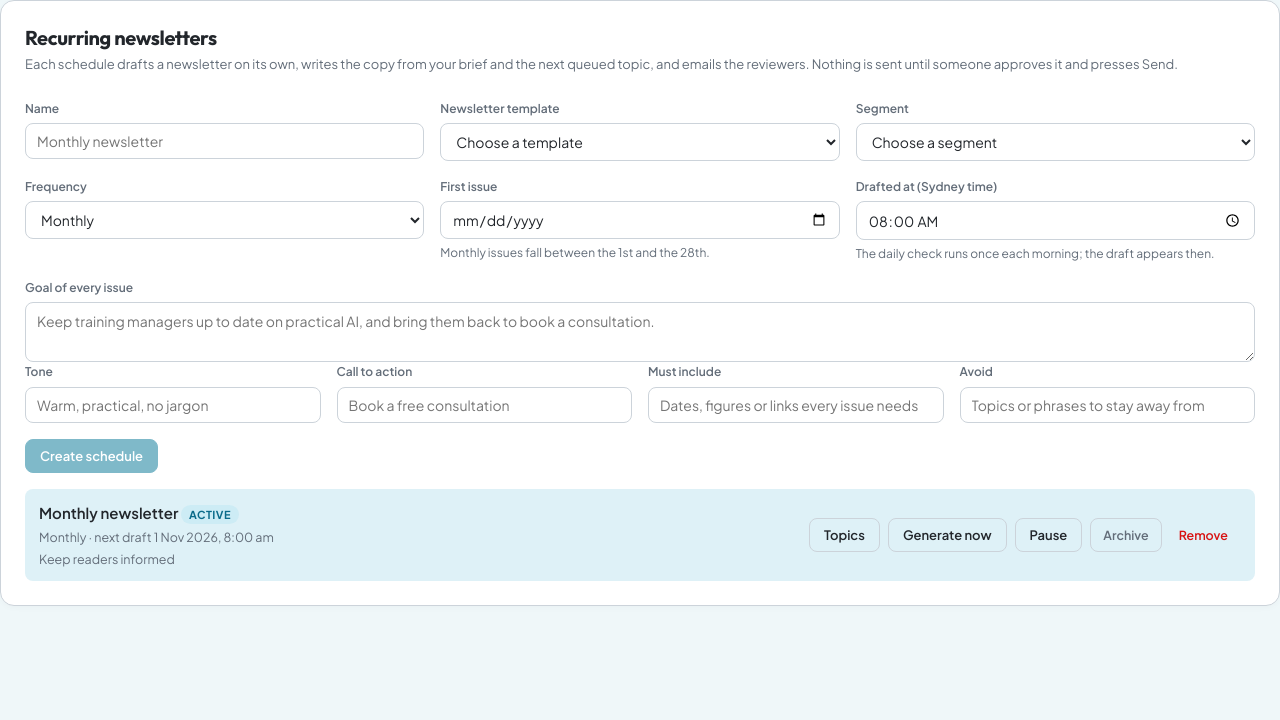
Scenario: NewsletterSchedules › drafts an issue on demand and says where to find it
This screenshot has width=1280, height=720.
Click the button with test id "run-schedule-s1" at (947, 535), box [888, 518, 1007, 552]
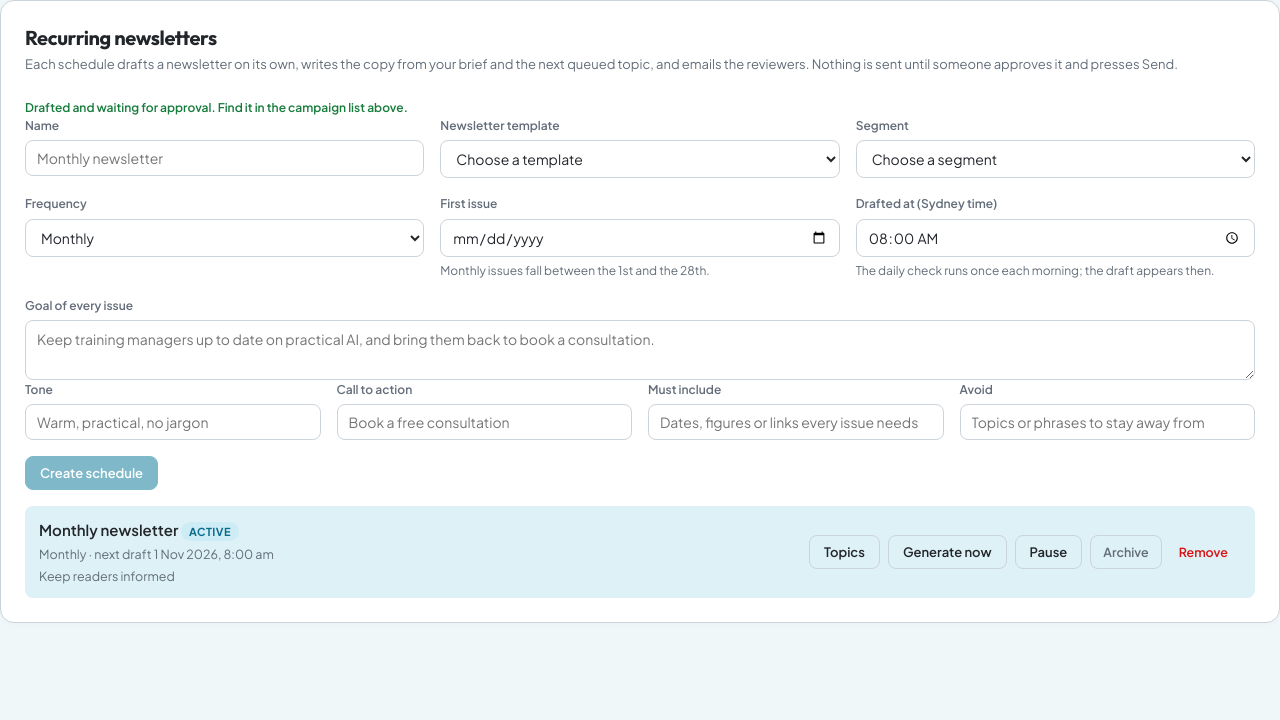
Now the message shows "waiting for approval", box [25, 100, 408, 115]
